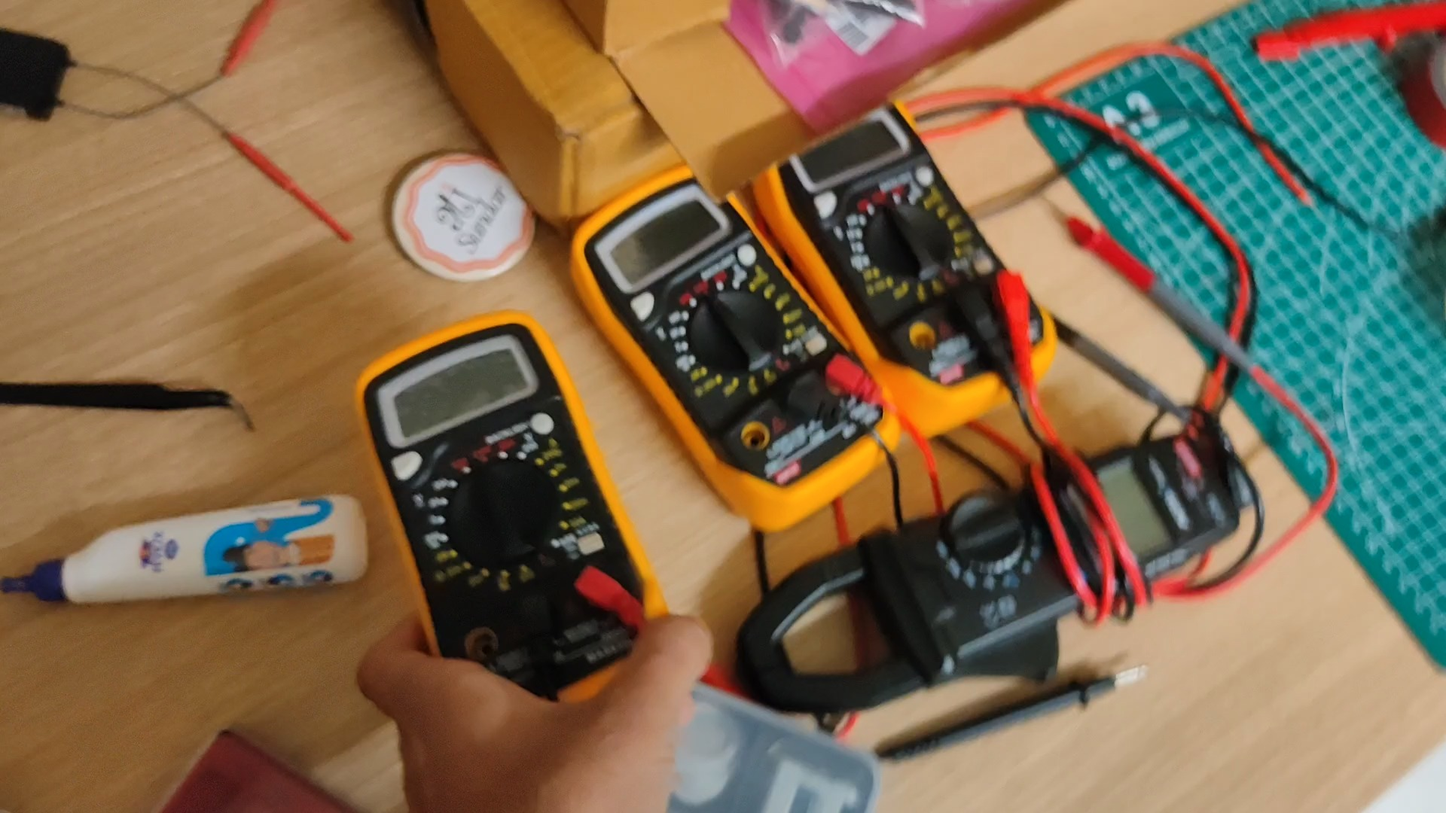multimeter: (357, 311, 668, 699), (573, 181, 897, 531), (753, 106, 1013, 435)
